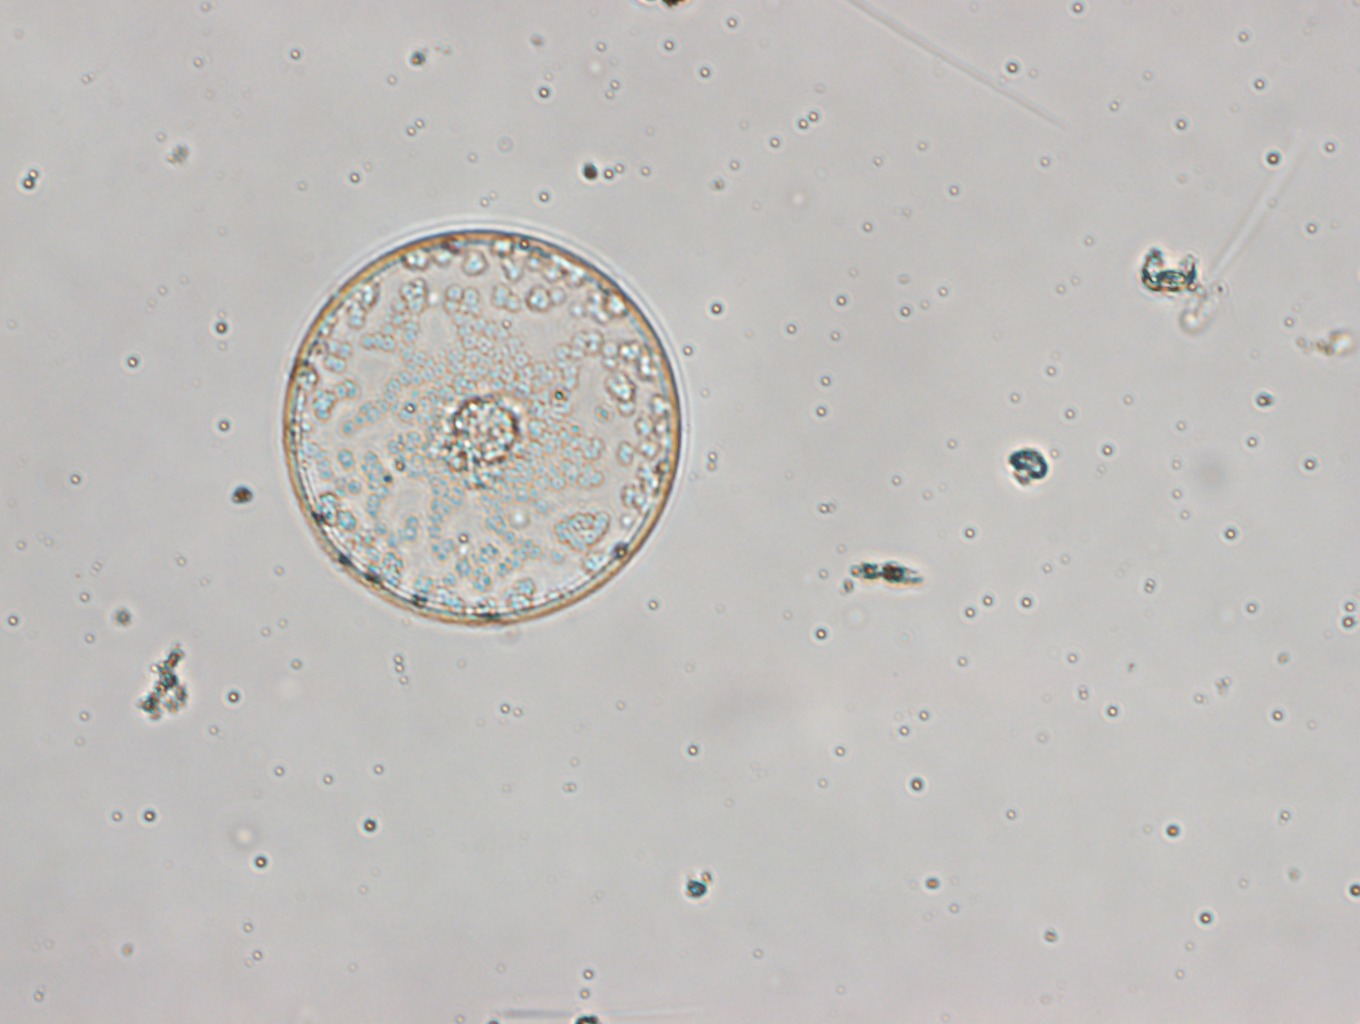coscinodiscus: (281, 222, 685, 630)
